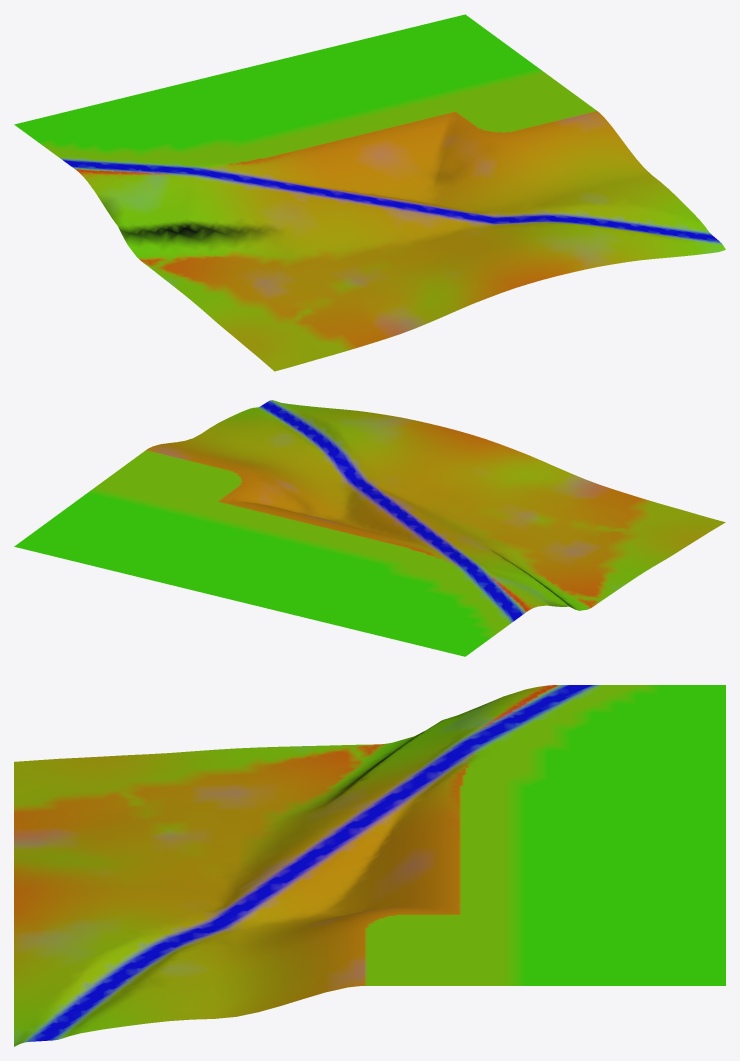
The model's file is SM_BM_BT_Terrain_2_3.glb.
The picture shows the model from 3 angles, top to bottom: view 1: azimuth 30°, elevation 25°; view 2: azimuth 150°, elevation 25°; view 3: azimuth 270°, elevation 25°; orthographic projection. The views are drawn at different scales.
Visible parts, largest first — view 1: SM_BM_BT_Terrain_2_3; view 2: SM_BM_BT_Terrain_2_3; view 3: SM_BM_BT_Terrain_2_3.
Boxes of the visible parts, box(x1,y1,x2,y2) form: SM_BM_BT_Terrain_2_3: box(14, 14, 725, 371); SM_BM_BT_Terrain_2_3: box(14, 400, 725, 656); SM_BM_BT_Terrain_2_3: box(14, 685, 725, 1046).
Bounding box in the file's own units: 256 × 30.48 × 256.
